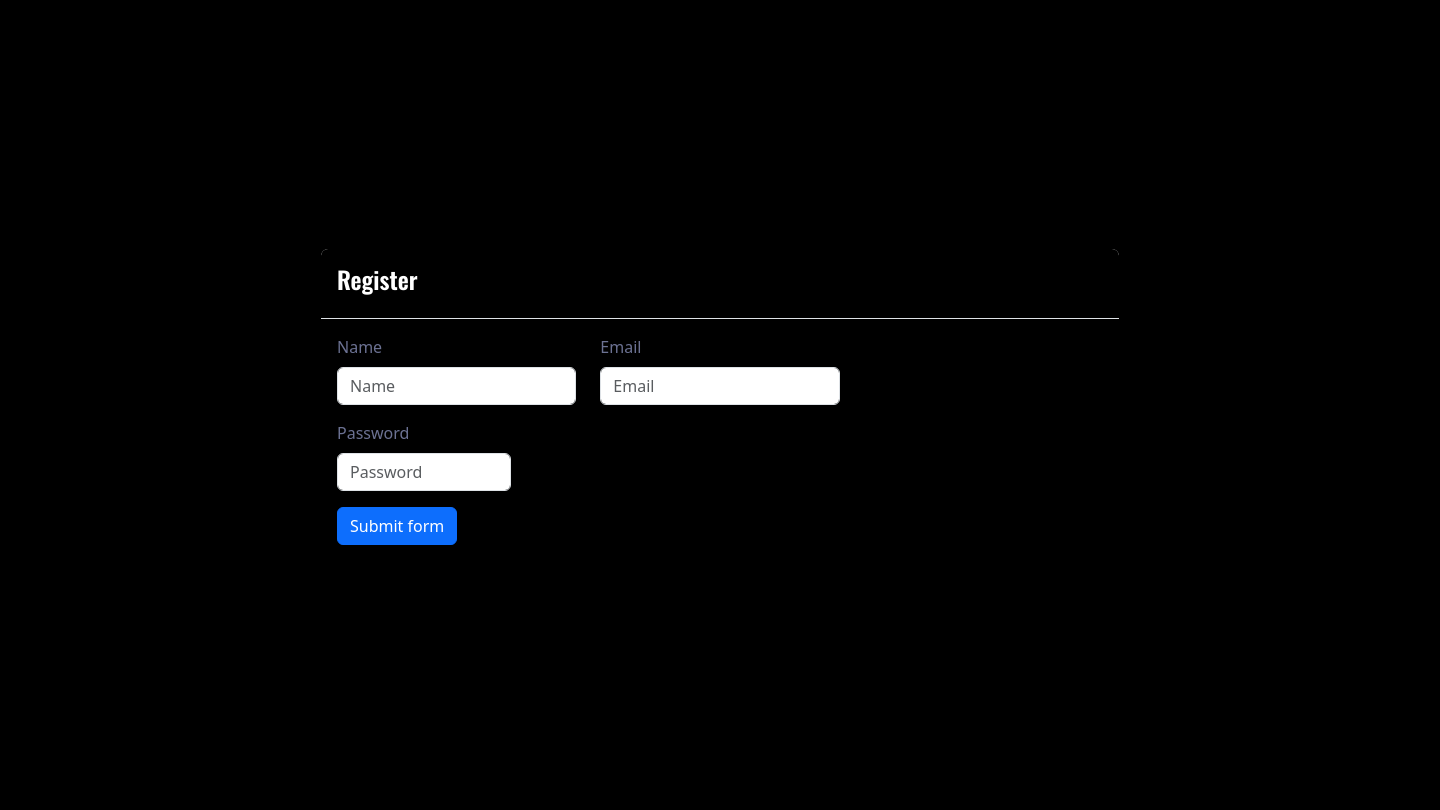
Test: Registration component › shows validation error message when name is empty
Step 1. Type "test@example.com" into the field with placeholder "Email" → (720, 386), box left=600, top=367, right=840, bottom=405
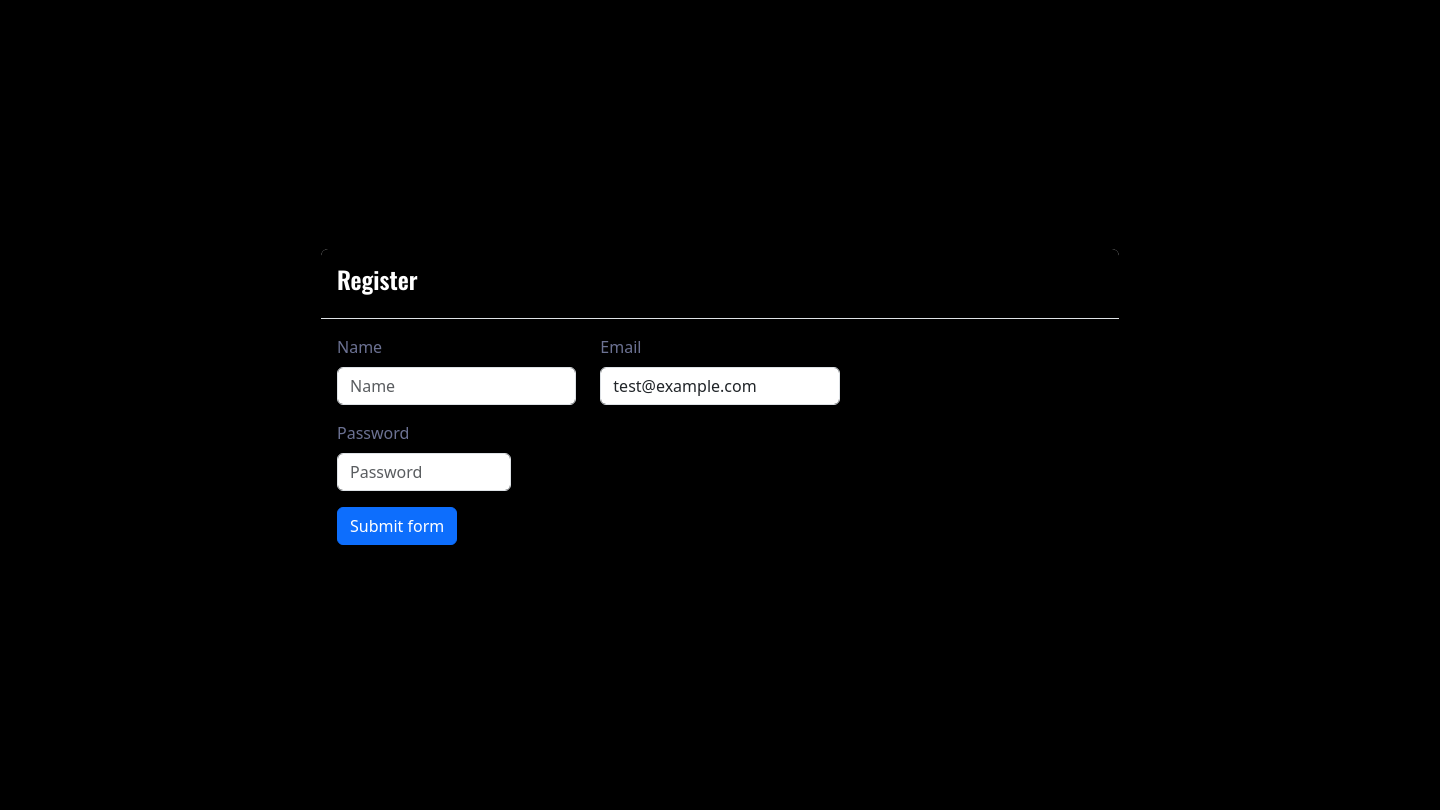
Step 2. Type "testPassword" into the password field with placeholder "Password" → (424, 472), box left=337, top=453, right=510, bottom=491
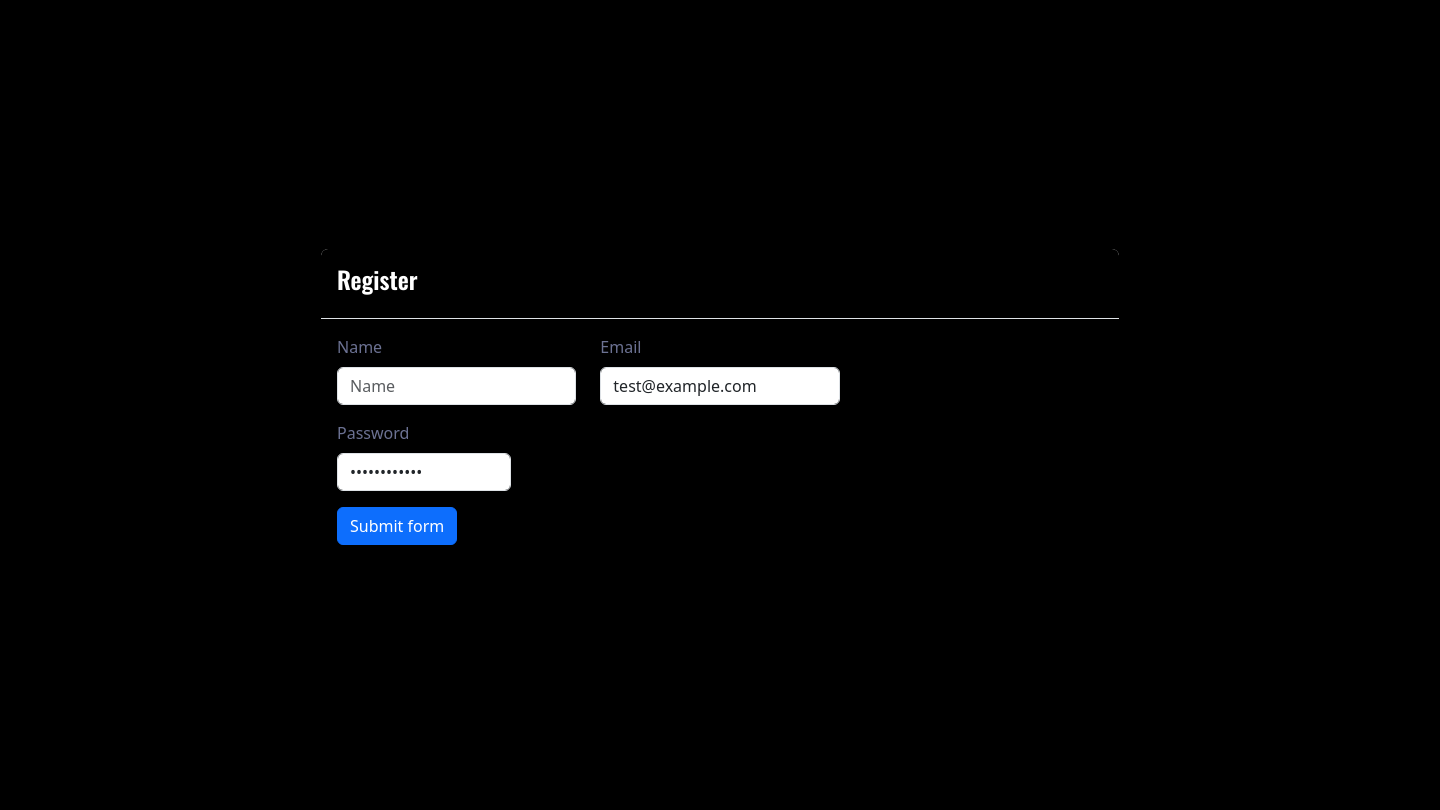
Step 3. Click the button "Submit form" → (397, 526), box left=337, top=507, right=457, bottom=545
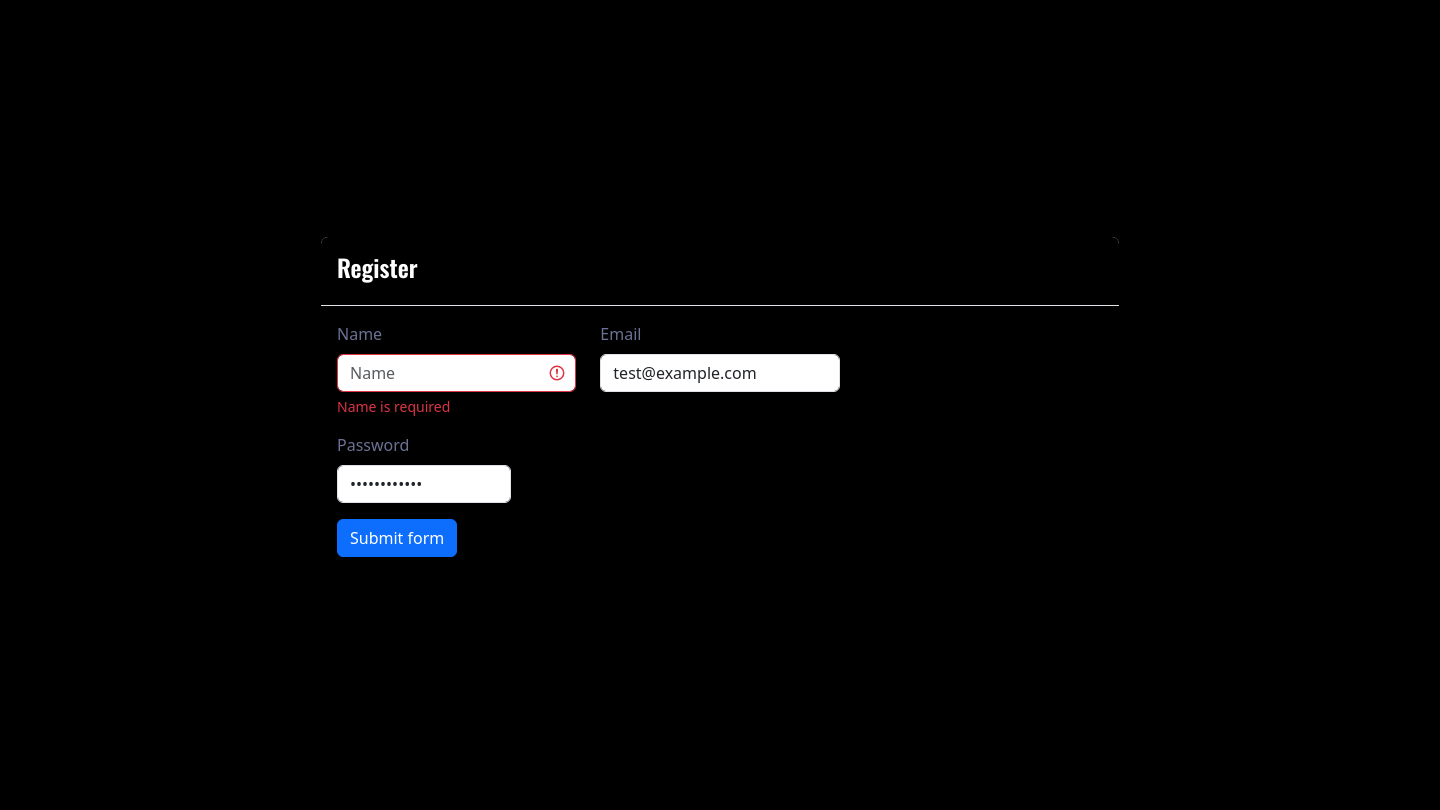
Result: the text "Name is required" is shown at left=337, top=397, right=450, bottom=416
